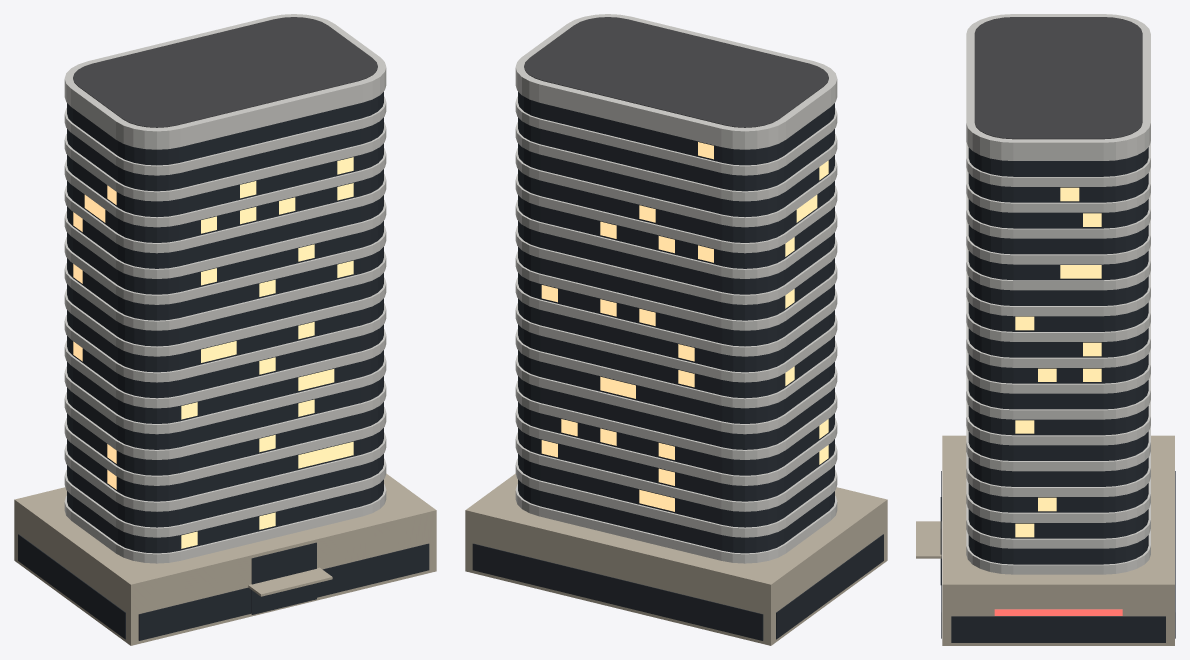
File: t_band_white_16.glb
The picture shows the model from 3 angles, left to right: view 1: azimuth 30°, elevation 25°; view 2: azimuth 150°, elevation 25°; view 3: azimuth 270°, elevation 25°; orthographic projection.
Visible parts, largest first — view 1: t_band_white_16; view 2: t_band_white_16; view 3: t_band_white_16.
Part boxes in pixels (box(x1,y1,x2,y2)): t_band_white_16: box(14, 14, 436, 645); t_band_white_16: box(465, 14, 887, 645); t_band_white_16: box(916, 14, 1175, 645).
Bounding box in the file's own units: 47.32 × 72.58 × 34.64.
